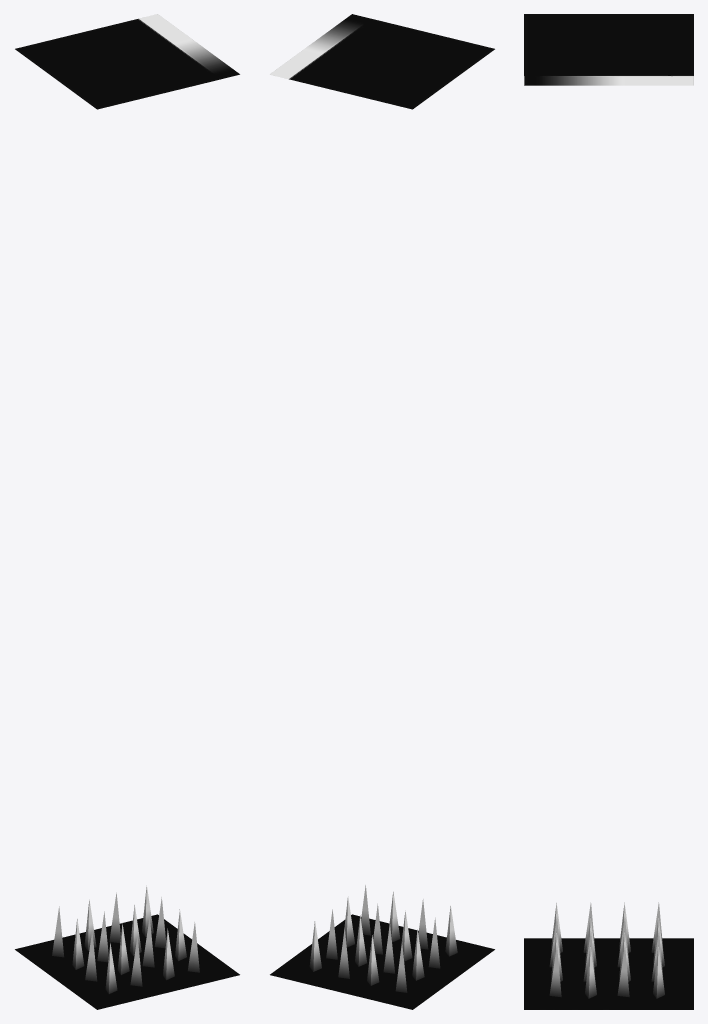
File: -3-trap pit tile.obj
3 views of the same model, side by side, from view 1: azimuth 30°, elevation 25°; view 2: azimuth 150°, elevation 25°; view 3: azimuth 270°, elevation 25° (orthographic). The views are drawn at different scales.
Parts seen in each view (by area): view 1: trap_pit_tile:group2 trap_pit_tile:pPlane103 trap_pit_tile:polyS, trap_pit_tile:pCube1 trap_pit_tile:polySurface1; view 2: trap_pit_tile:group2 trap_pit_tile:pPlane103 trap_pit_tile:polyS, trap_pit_tile:pCube1 trap_pit_tile:polySurface1; view 3: trap_pit_tile:group2 trap_pit_tile:pPlane103 trap_pit_tile:polyS, trap_pit_tile:pCube1 trap_pit_tile:polySurface1.
Part boxes in pixels (x1=…): trap_pit_tile:group2 trap_pit_tile:pPlane103 trap_pit_tile:polyS: x1=15, y1=885, x2=239, y2=1009; trap_pit_tile:pCube1 trap_pit_tile:polySurface1: x1=15, y1=14, x2=239, y2=109; trap_pit_tile:group2 trap_pit_tile:pPlane103 trap_pit_tile:polyS: x1=270, y1=885, x2=494, y2=1009; trap_pit_tile:pCube1 trap_pit_tile:polySurface1: x1=270, y1=14, x2=494, y2=109; trap_pit_tile:group2 trap_pit_tile:pPlane103 trap_pit_tile:polyS: x1=524, y1=902, x2=693, y2=1009; trap_pit_tile:pCube1 trap_pit_tile:polySurface1: x1=524, y1=14, x2=693, y2=85.
Size of the model in its own units: 2 by 12.02 by 2.
1 material, 1 textured.
